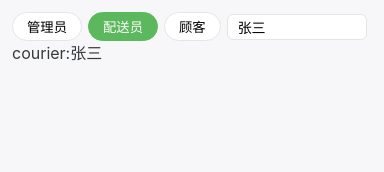
Test: RoleSwitcher › 从 courier 切到 customer：person 被清空、输入框消失
Expected: the text with test id "probe" reads "courier:张三", [12,43,102,63]
Step 1. Click the button with test id "role-customer" → (192, 26), box [164,12,221,41]
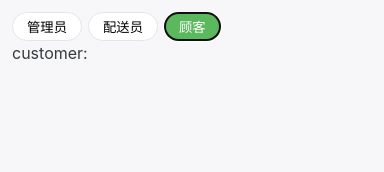
Expected: the text with test id "probe" reads "customer:", [12,43,88,63]
Expected: the field with test id "delivery-person-input" is gone
